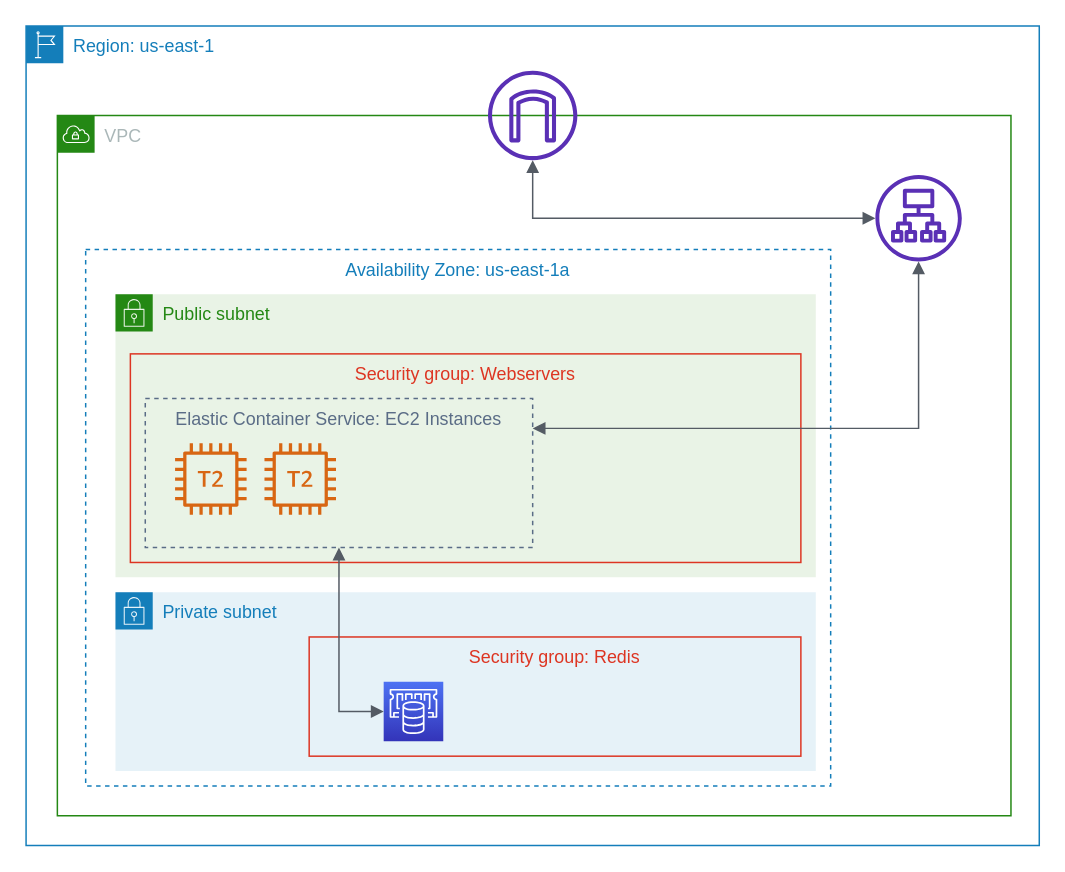
This 1065x872 diagram has some shape labels left out. The shapes that lost their labels are listed below. From the top down, each one's centre as x and y in pixels, then its label:
At pixel 532 114: "Internet Gateway".
At pixel 918 217: "Application Load Balancer".
At pixel 412 710: "ElastiCache Redis Instances".
